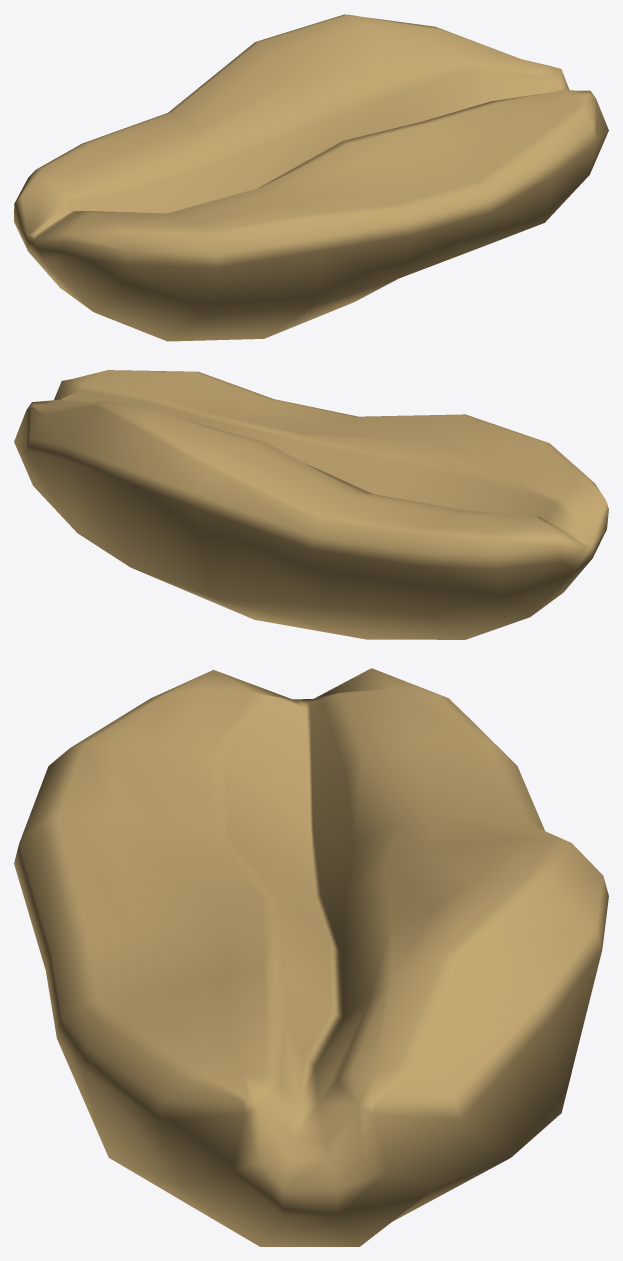
File: Peanut_02.fbx
3 views of the same model, one above another, from view 1: azimuth 30°, elevation 25°; view 2: azimuth 150°, elevation 25°; view 3: azimuth 270°, elevation 25° (orthographic). The views are drawn at different scales.
Visible parts, largest first — view 1: pSphere2; view 2: pSphere2; view 3: pSphere2.
Boxes of the visible parts, <box> form: pSphere2: <box>14,14,608,341</box>; pSphere2: <box>14,370,608,639</box>; pSphere2: <box>14,668,608,1246</box>.
Bounding box in the file's own units: 60.87 × 21.71 × 33.57.
